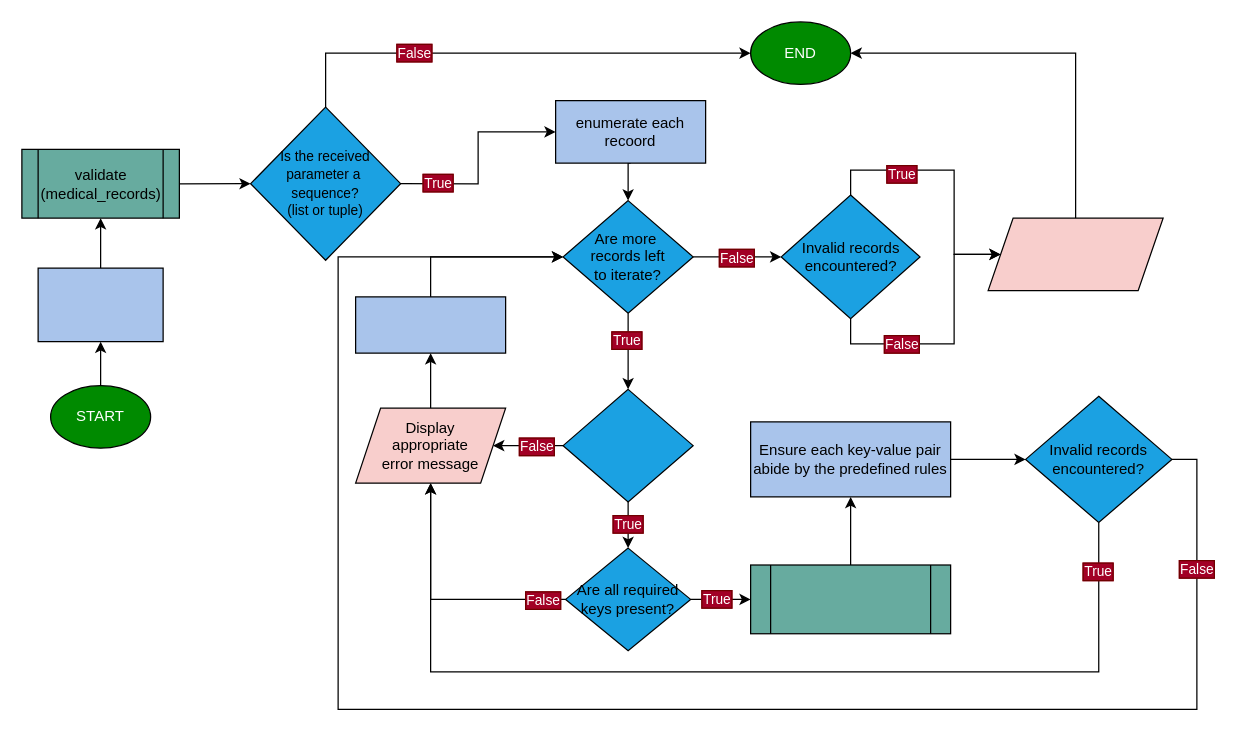
The diagram is 1236 pixels wide and 741 high, and some of its shapes have lost their labels. The shapes that lost their labels are listed below. From the top down, each one's centre as x and y in pixels, then its label:
At [1075,254]: "Display message accordingly".
At [100,304]: "Use predefined data to call validate()".
At [430,324]: "Set is_invalid to True".
At [627,445]: "Is the record a dictionary?".
At [850,599]: "find_invalid_records (dictionary of patient data)".
